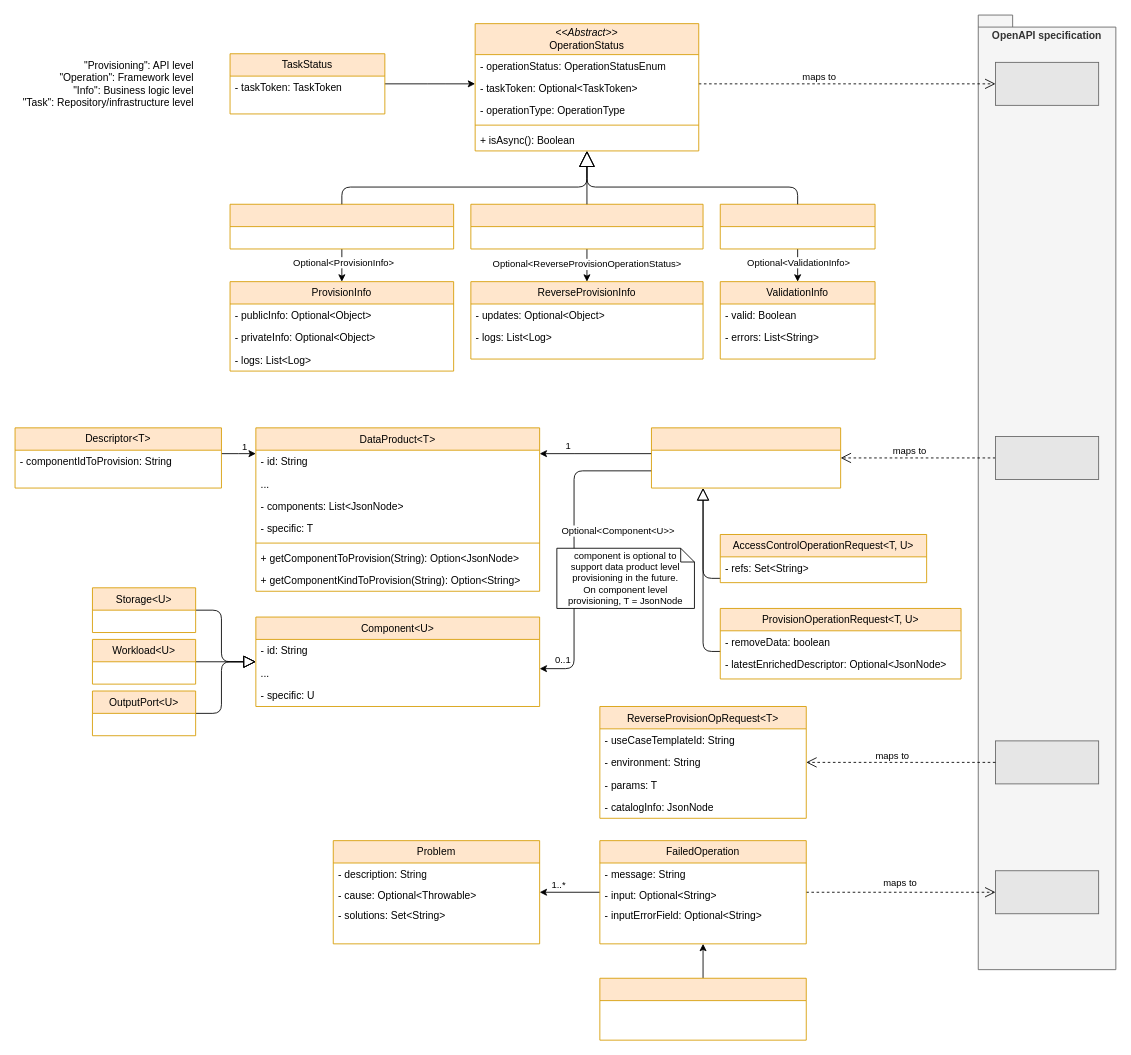
This 1131x1055 diagram has some shape labels left out. Here are the shapes that lost their labels. From the top down, the centre of each, then its label:
point 1047,83: ProvisioningStatus
point 341,226: ProvisionOperationStatus
point 586,226: ReverseProvisionOperationStatus
point 797,226: ValidationOperationStatus
point 746,457: OperationRequest<T, U>
point 1047,457: ProvisioningRequest
point 1047,762: ReverseProvisioning Request
point 1047,892: RequestValidation Error
point 702,1008: TechAdapterValidationException
